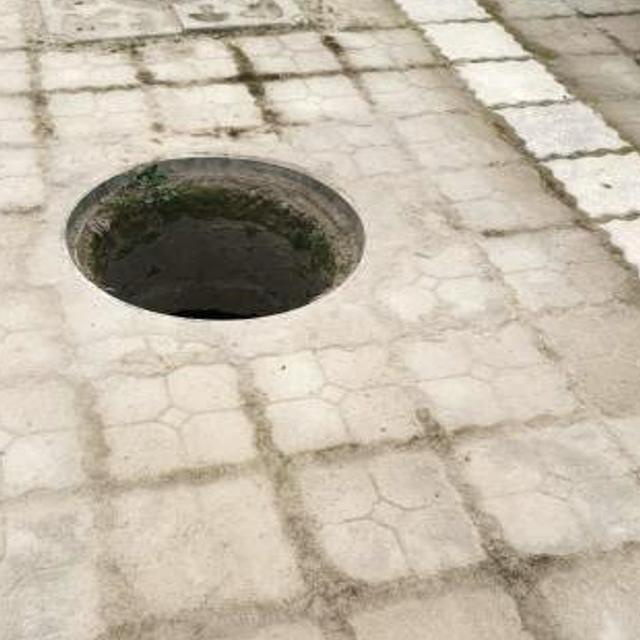lose: (47, 148, 372, 326)
